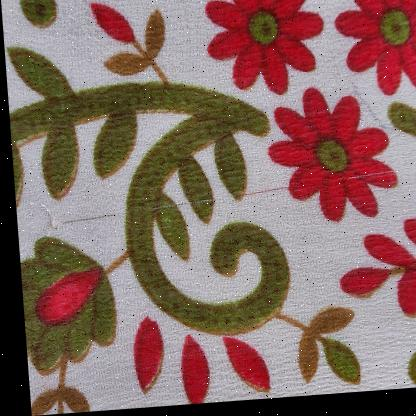spot: (338, 79, 389, 143)
